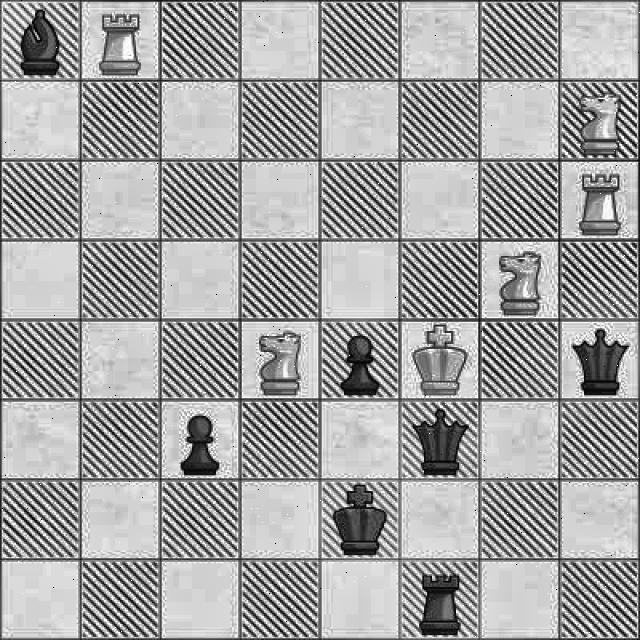black bishop: (13, 0, 68, 80)
black king: (327, 482, 389, 558)
black pawn: (328, 327, 387, 401), (175, 405, 228, 477)
black queen: (565, 325, 635, 395), (412, 408, 476, 476)
black rook: (405, 569, 479, 640)
white king: (410, 322, 472, 398)
white rook: (86, 5, 154, 78)
whiteknight: (486, 250, 554, 318), (568, 86, 628, 156), (252, 330, 306, 404)
